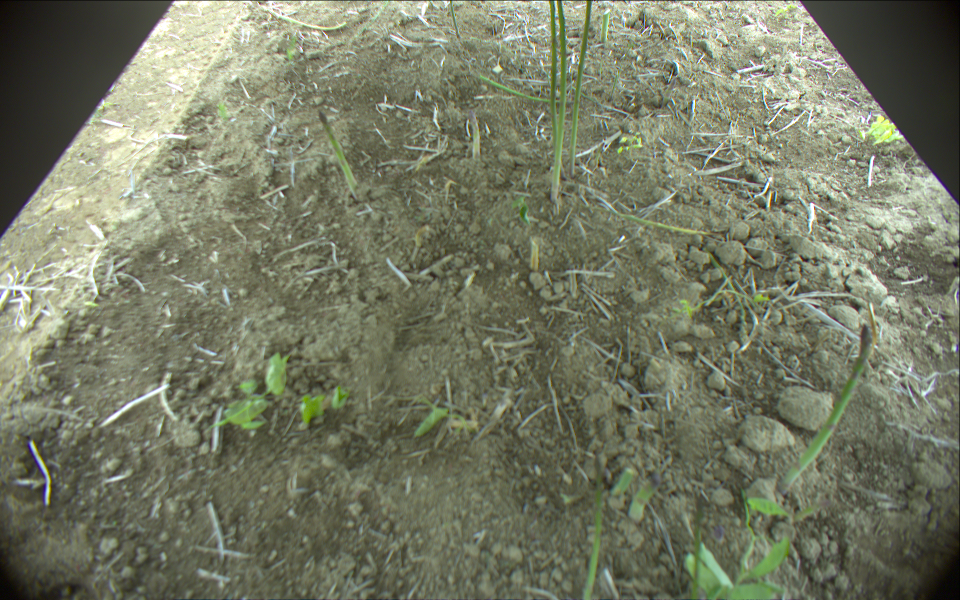aspa: (769, 319, 881, 505), (569, 1, 593, 179), (316, 104, 360, 200), (549, 1, 569, 203), (580, 445, 606, 600), (477, 74, 575, 105), (255, 1, 347, 34), (689, 492, 712, 600), (551, 1, 559, 144), (466, 112, 481, 158), (599, 7, 611, 42), (450, 1, 462, 34)
